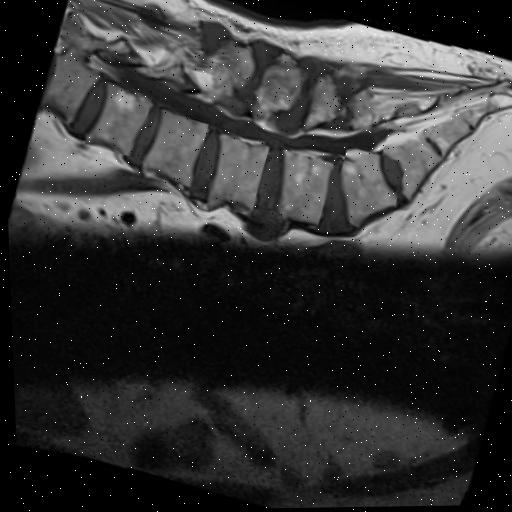L1: (86, 83, 150, 155)
L2: (141, 110, 207, 186)
L3: (205, 134, 267, 209)
L4: (279, 149, 332, 226)
L5: (341, 152, 395, 227)
S1: (383, 138, 439, 199)
